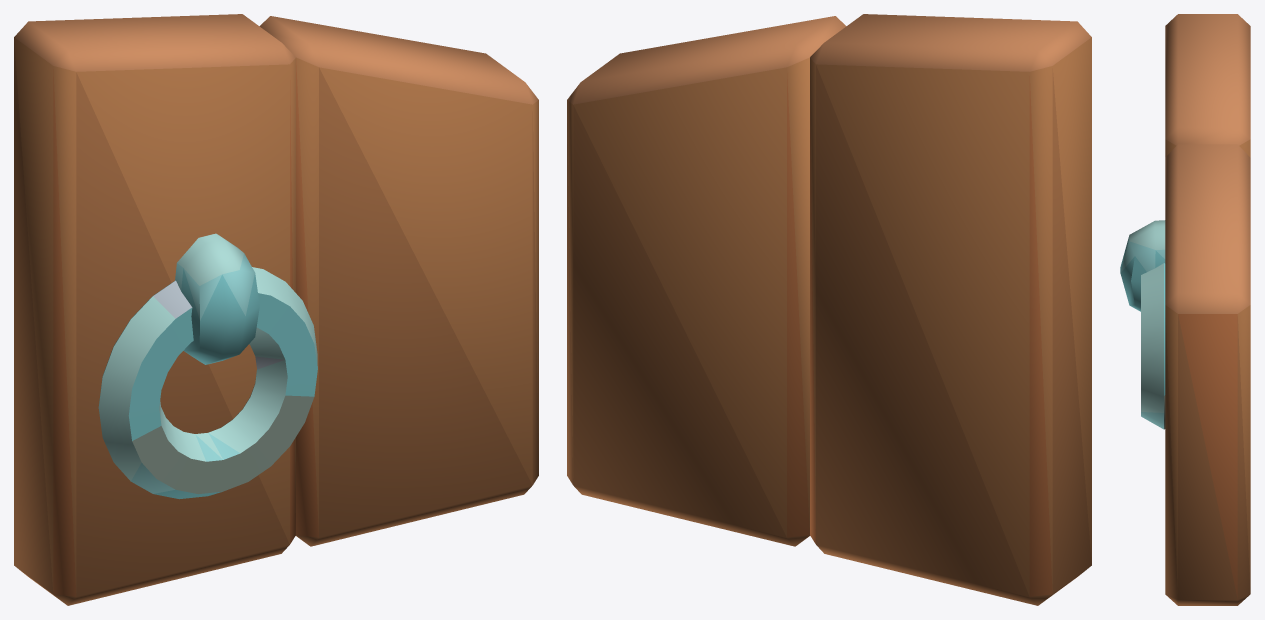
The model's file is itch_tiny_homely_house_gate_double_right.glb.
The picture shows the model from 3 angles, left to right: view 1: azimuth 30°, elevation 25°; view 2: azimuth 150°, elevation 25°; view 3: azimuth 270°, elevation 25°; orthographic projection. The views are drawn at different scales.
Visible parts, largest first — view 1: gate_double_right; view 2: gate_double_right; view 3: gate_double_right.
Boxes of the visible parts, <box> form: gate_double_right: <box>14,14,538,605</box>; gate_double_right: <box>567,14,1091,605</box>; gate_double_right: <box>1120,14,1250,605</box>.
Size of the model in its own units: 1.18 by 1.29 by 0.36.
